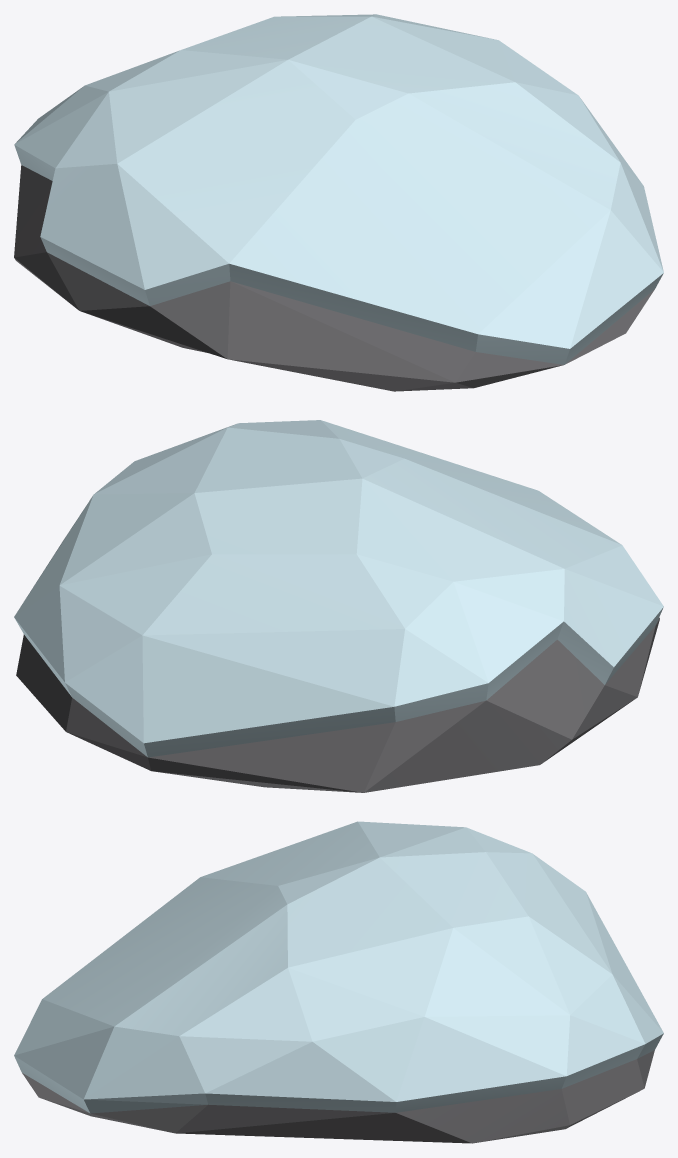
File: Roca07.glb
3 renders of one model, top to bottom at view 1: azimuth 30°, elevation 25°; view 2: azimuth 150°, elevation 25°; view 3: azimuth 270°, elevation 25°, orthographic. The views are drawn at different scales.
Visible parts, largest first — view 1: SM_Env_Rock_06_Snow; view 2: SM_Env_Rock_06_Snow; view 3: SM_Env_Rock_06_Snow.
Boxes of the visible parts, x1,y1,x2,y2 form: SM_Env_Rock_06_Snow: [14, 14, 663, 391]; SM_Env_Rock_06_Snow: [14, 420, 663, 792]; SM_Env_Rock_06_Snow: [14, 821, 663, 1143].
Size of the model in its own units: 1.41 by 0.5599 by 1.61.
Materials: 1 (1 with a texture image).
